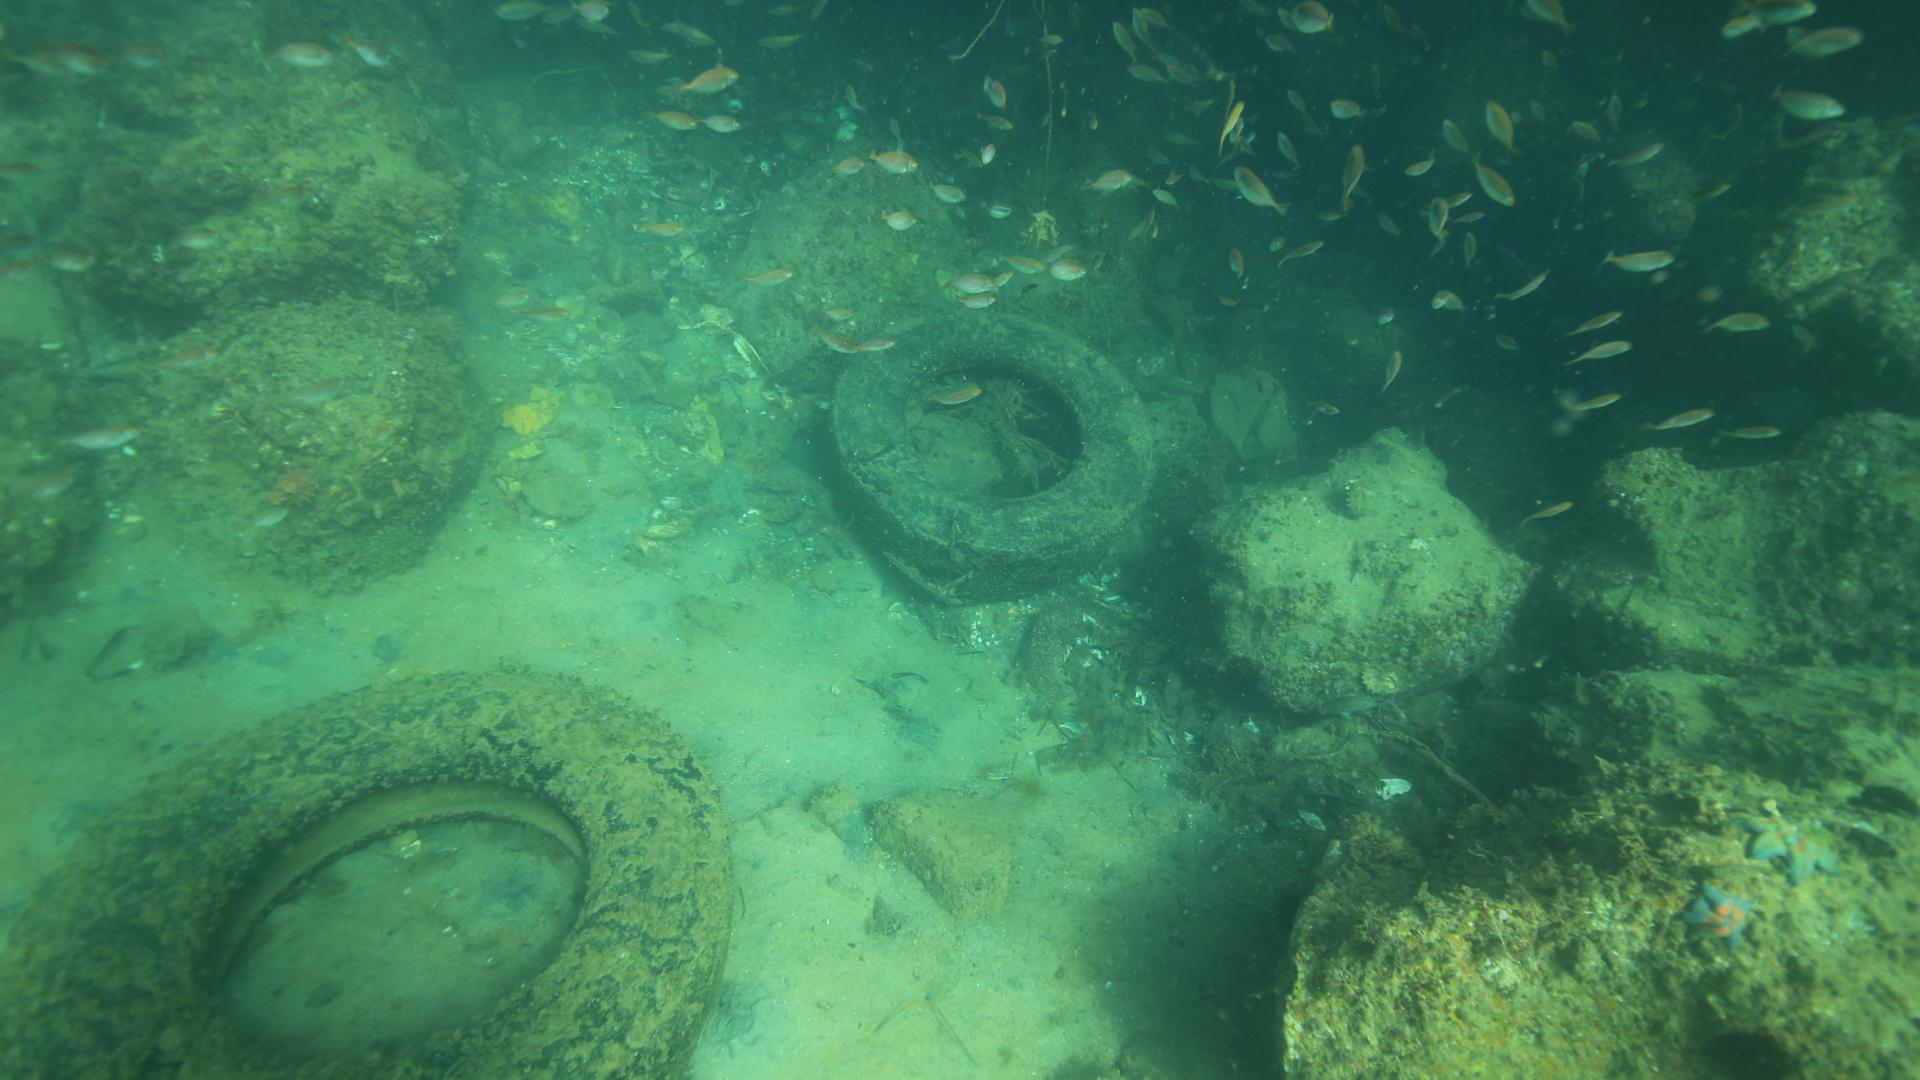tire: (4, 658, 731, 1071), (829, 306, 1156, 597)
